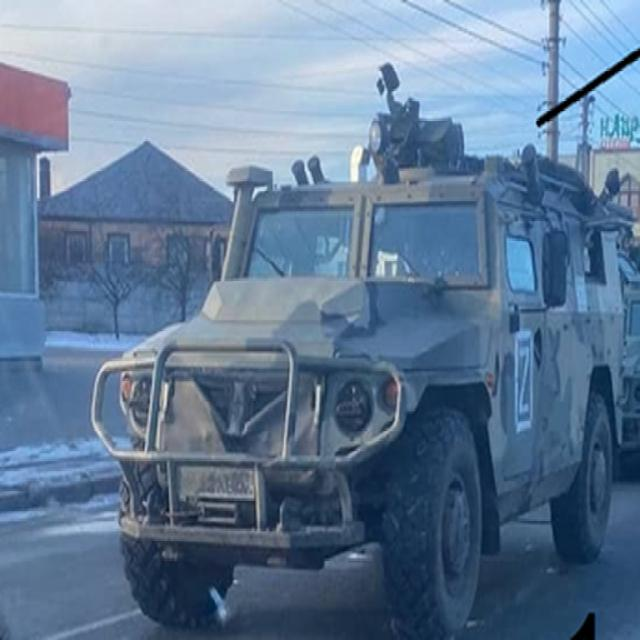CAR: (90, 78, 622, 636)
